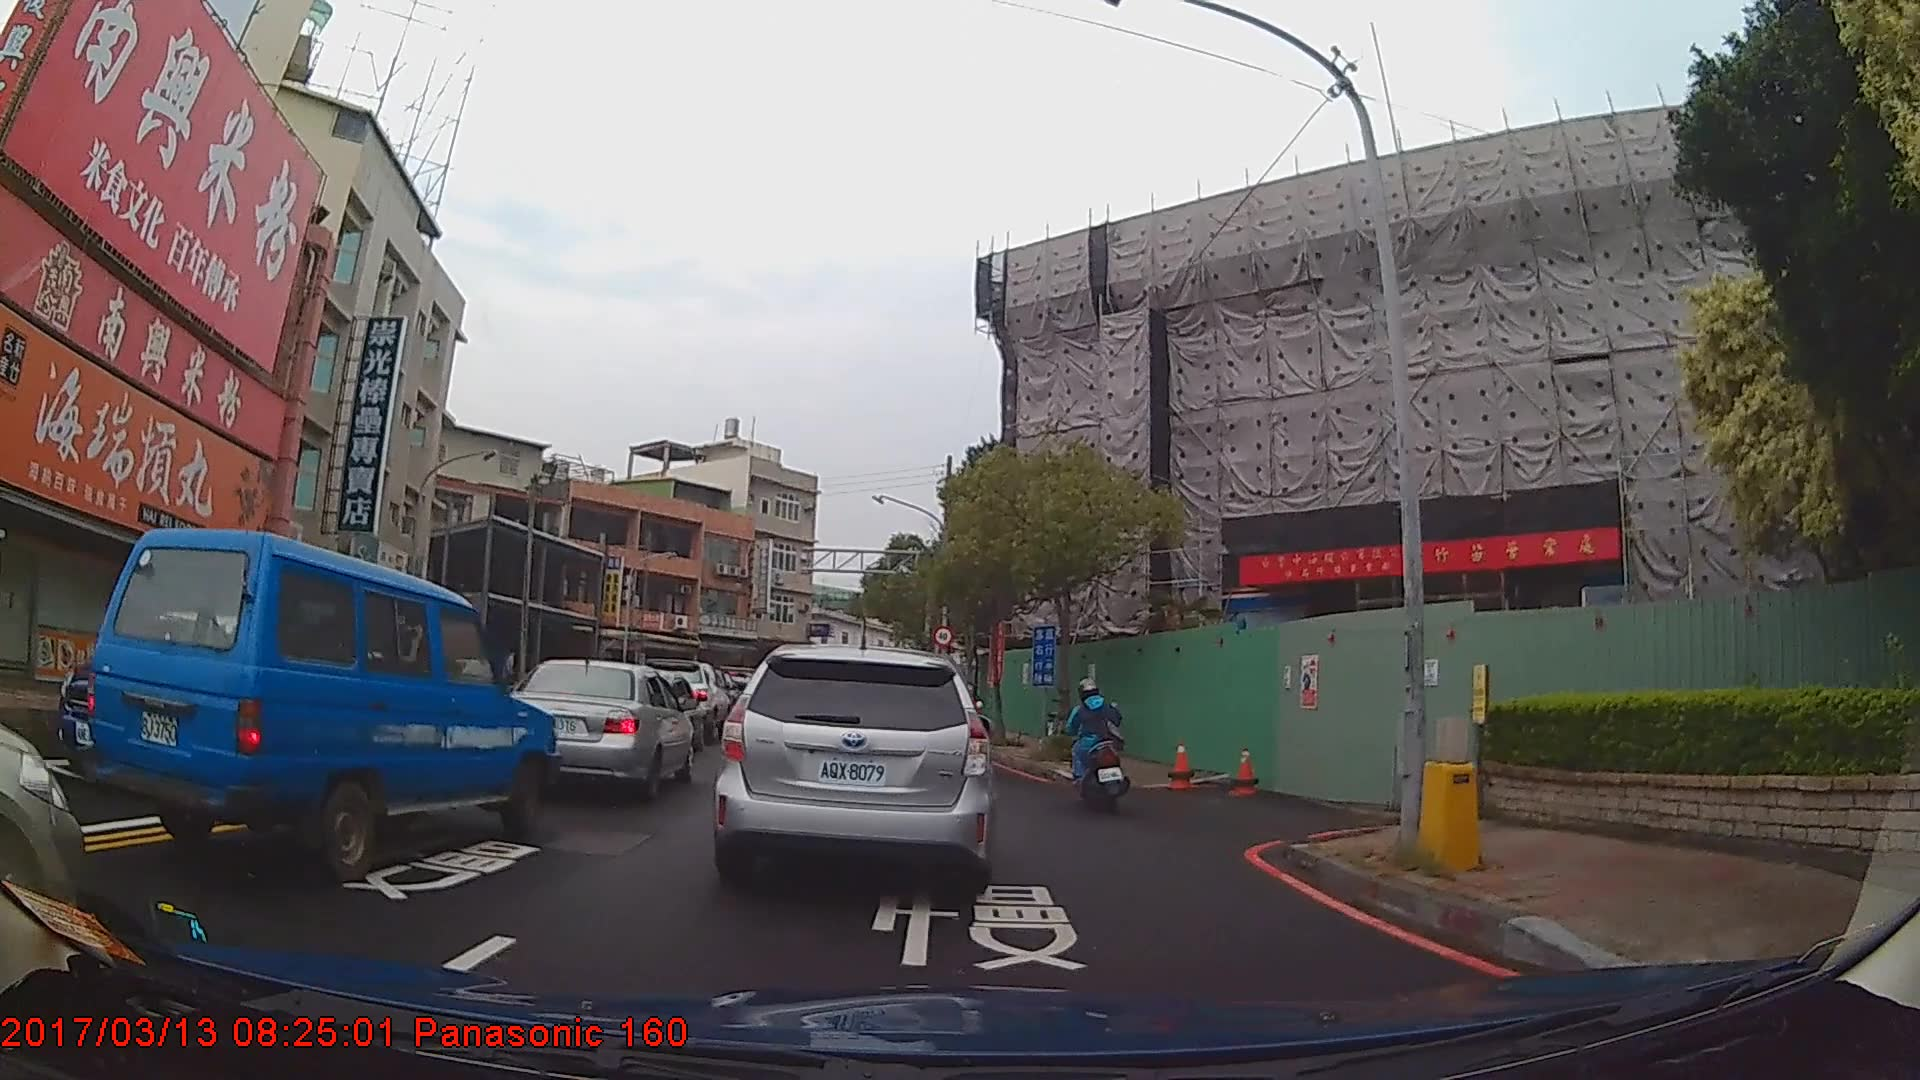rider: (1070, 683, 1127, 816)
vehicle: (83, 527, 562, 881), (707, 644, 1000, 888), (503, 659, 694, 799)
